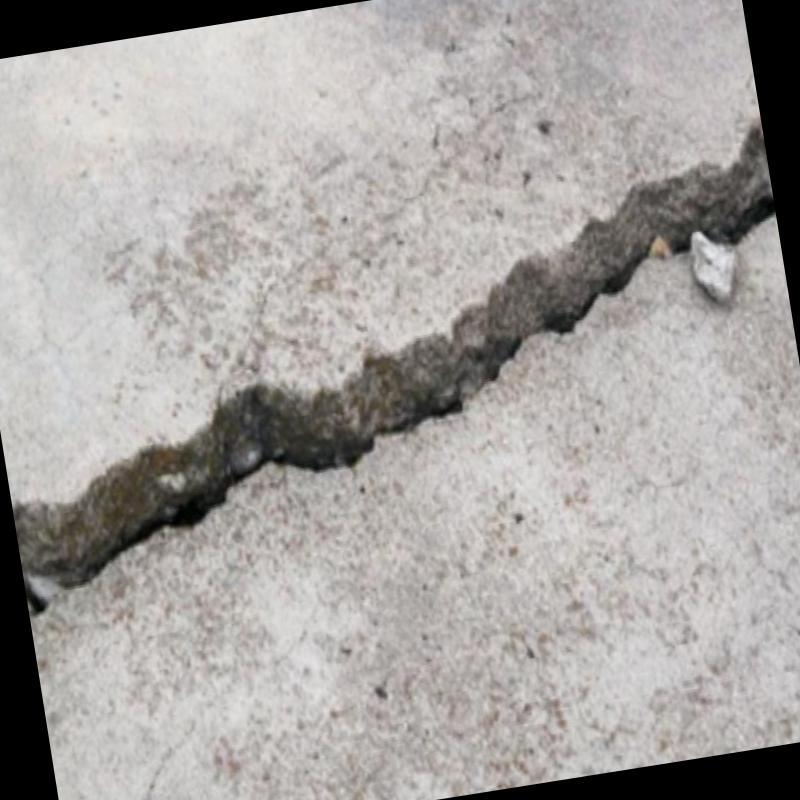pothole: (13, 119, 774, 610)
